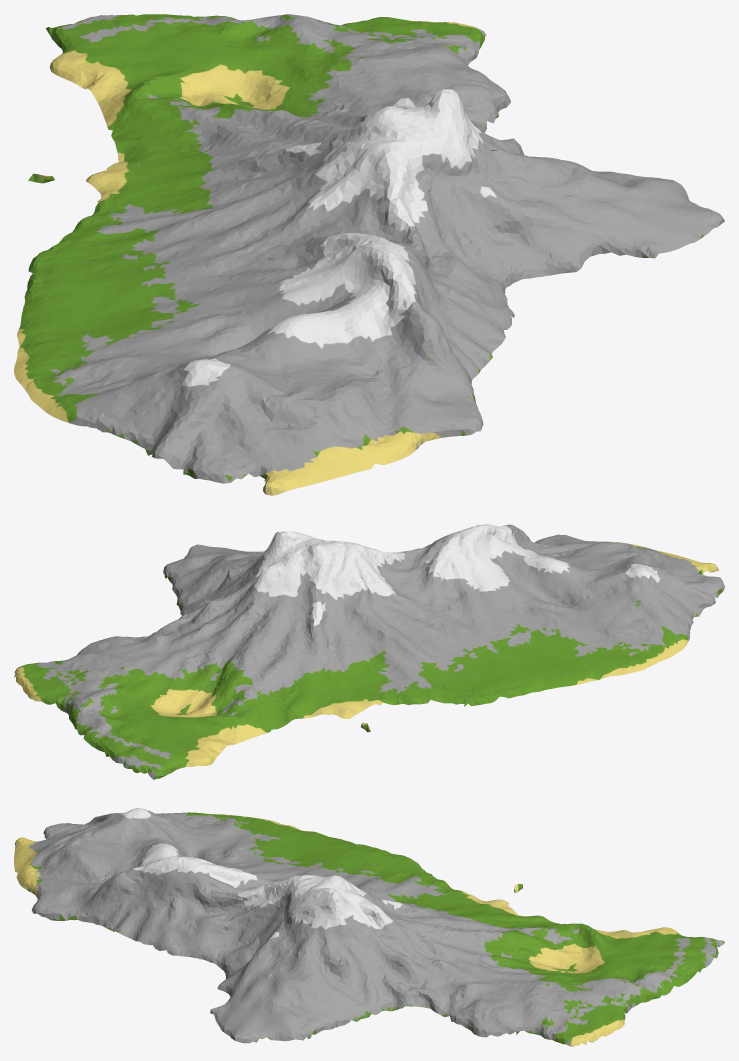
File: island1.fbx
The picture shows the model from 3 angles, top to bottom: view 1: azimuth 30°, elevation 25°; view 2: azimuth 150°, elevation 25°; view 3: azimuth 270°, elevation 25°; orthographic projection. The views are drawn at different scales.
Parts seen in each view (by area): view 1: island1_Baked; view 2: island1_Baked; view 3: island1_Baked.
Boxes of the visible parts, x1=… form: island1_Baked: x1=14, y1=14, x2=724, y2=495; island1_Baked: x1=14, y1=524, x2=724, y2=779; island1_Baked: x1=14, y1=808, x2=724, y2=1046.
Bounding box in the file's own units: 345013 × 62472 × 446642.
1 material, 1 textured.
